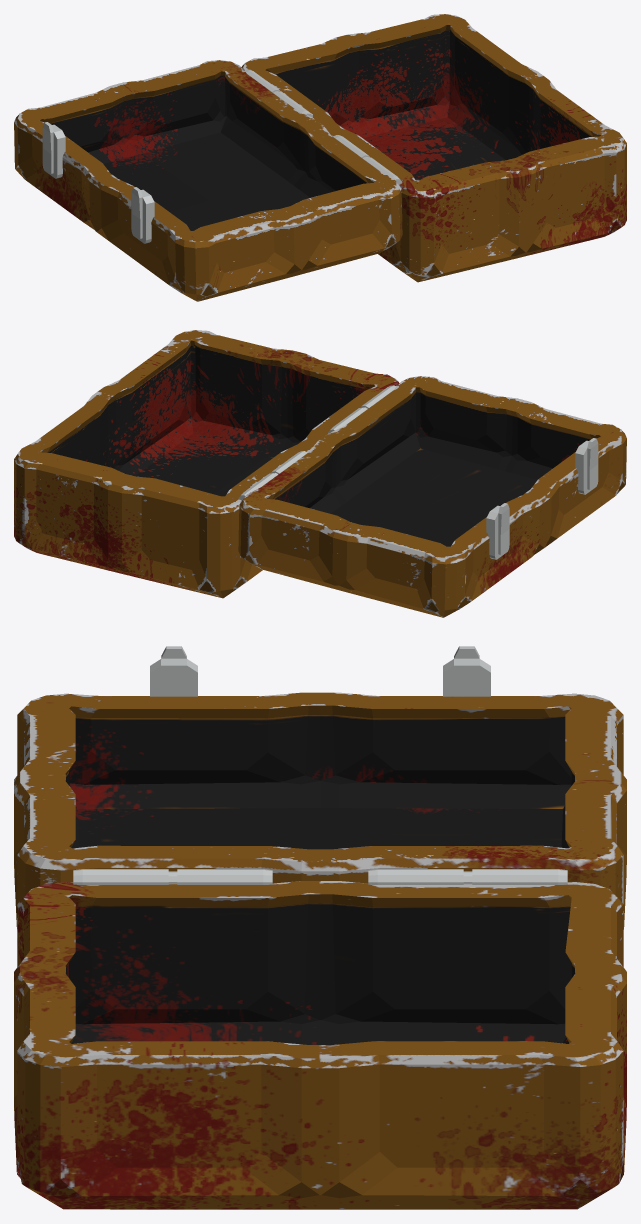
Rendered from Mili-Box-Open_Color.fbx.
The picture shows the model from 3 angles, top to bottom: view 1: azimuth 30°, elevation 25°; view 2: azimuth 150°, elevation 25°; view 3: azimuth 270°, elevation 25°; orthographic projection. The views are drawn at different scales.
Visible parts, largest first — view 1: joined; view 2: joined; view 3: joined.
Part boxes in pixels (x1=…): joined: x1=14, y1=14, x2=626, y2=301; joined: x1=14, y1=330, x2=626, y2=617; joined: x1=14, y1=646, x2=626, y2=1209.
Bounding box in the file's own units: 563 × 153 × 399.
Materials: 4 (4 with a texture image).
